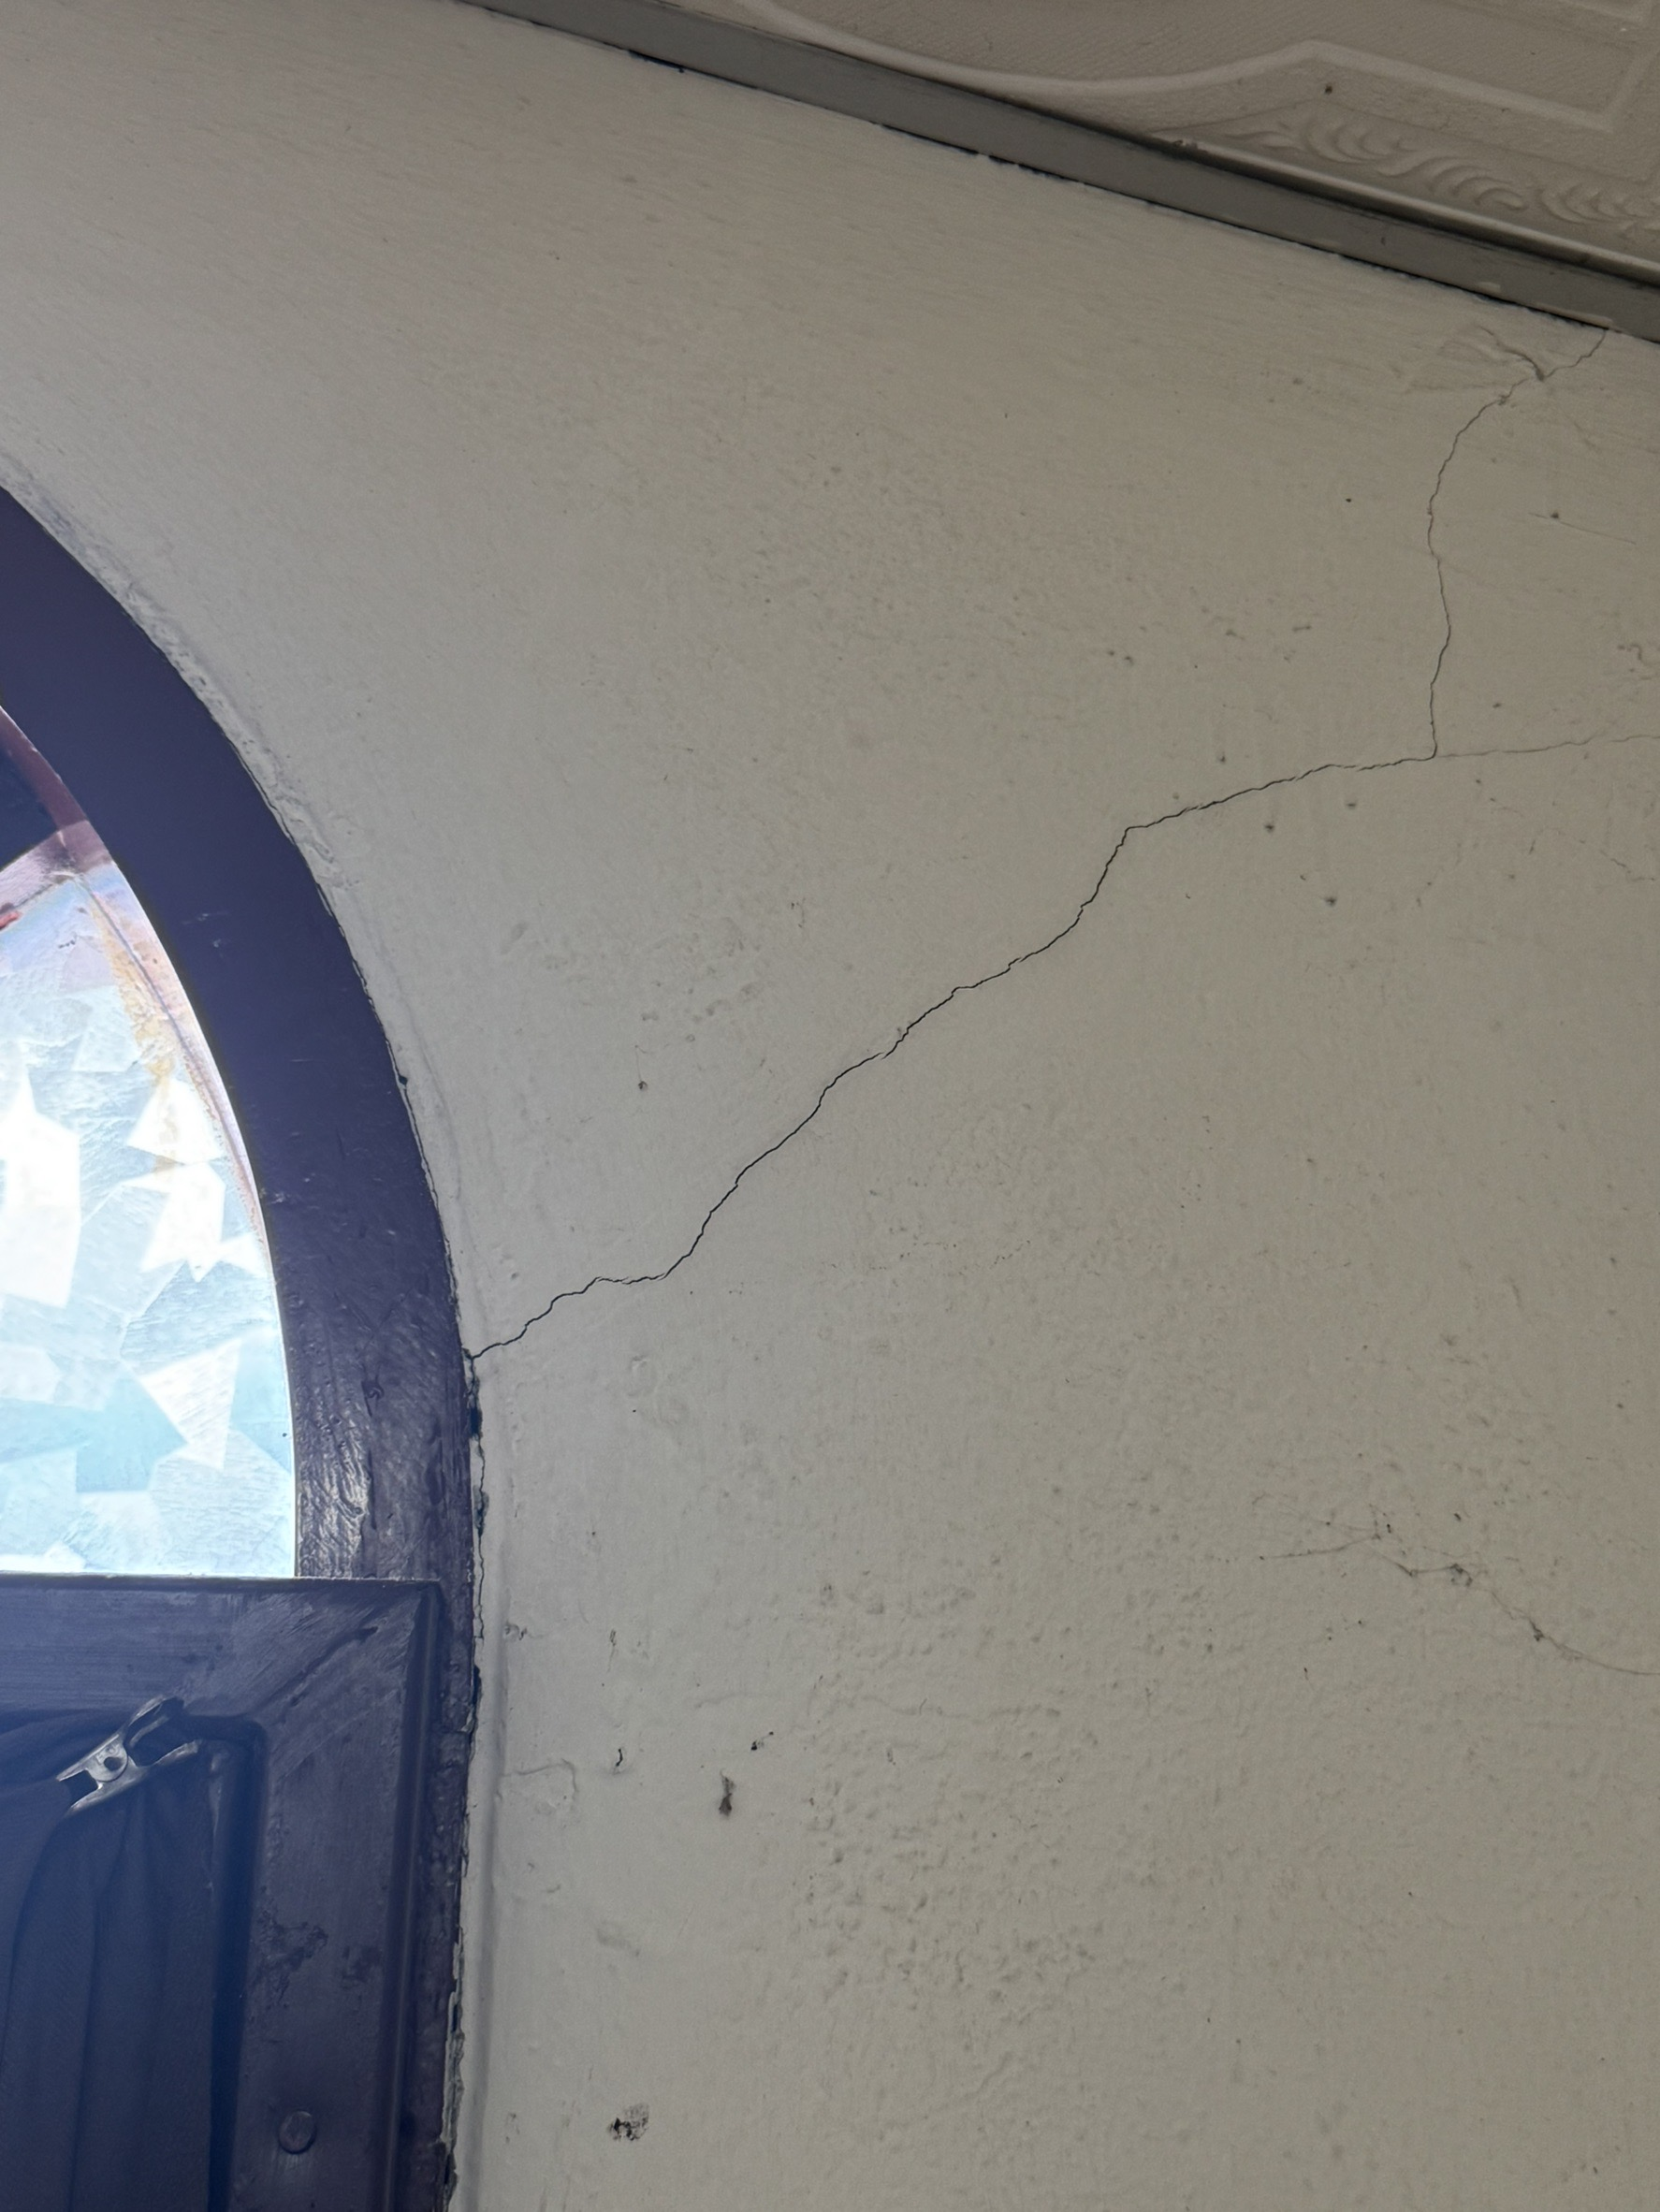Low: (446, 328, 1660, 1419)
